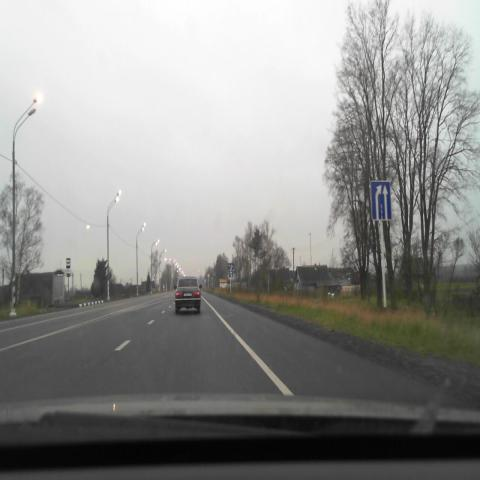5_15_5: (370, 180, 392, 221)
